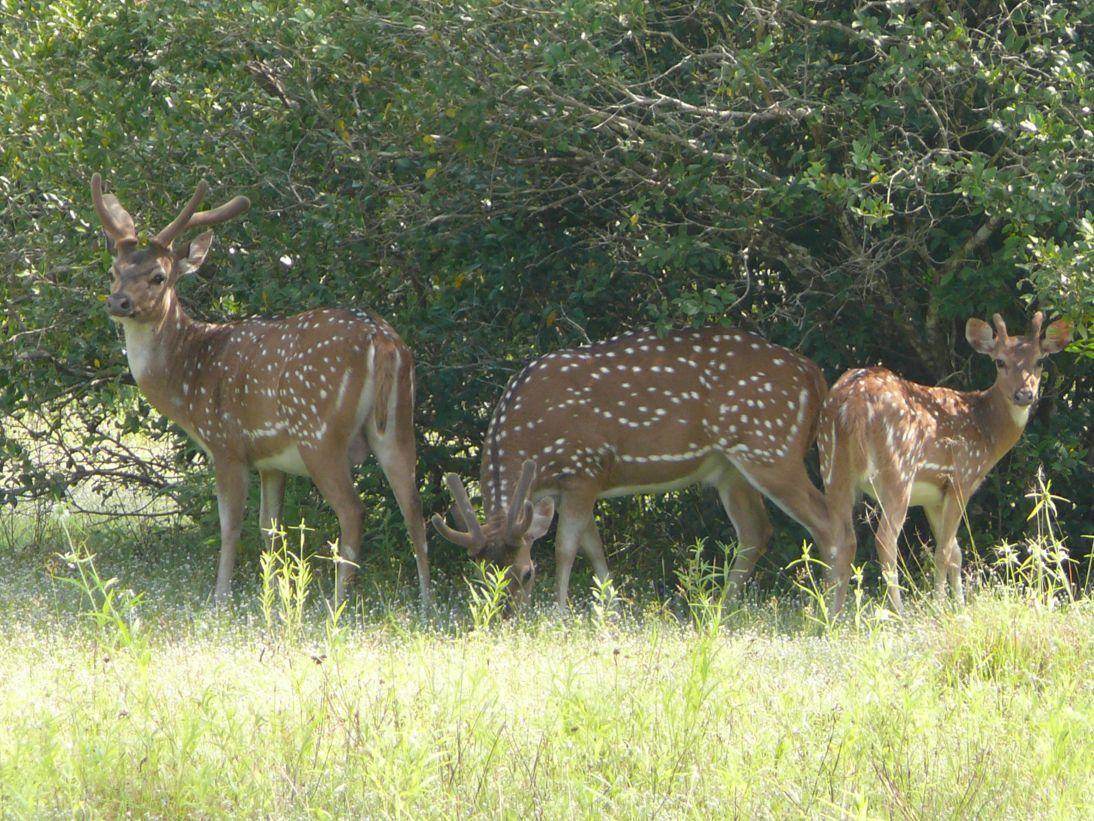Deer: (91, 175, 429, 601), (433, 327, 829, 604), (818, 312, 1069, 610)
